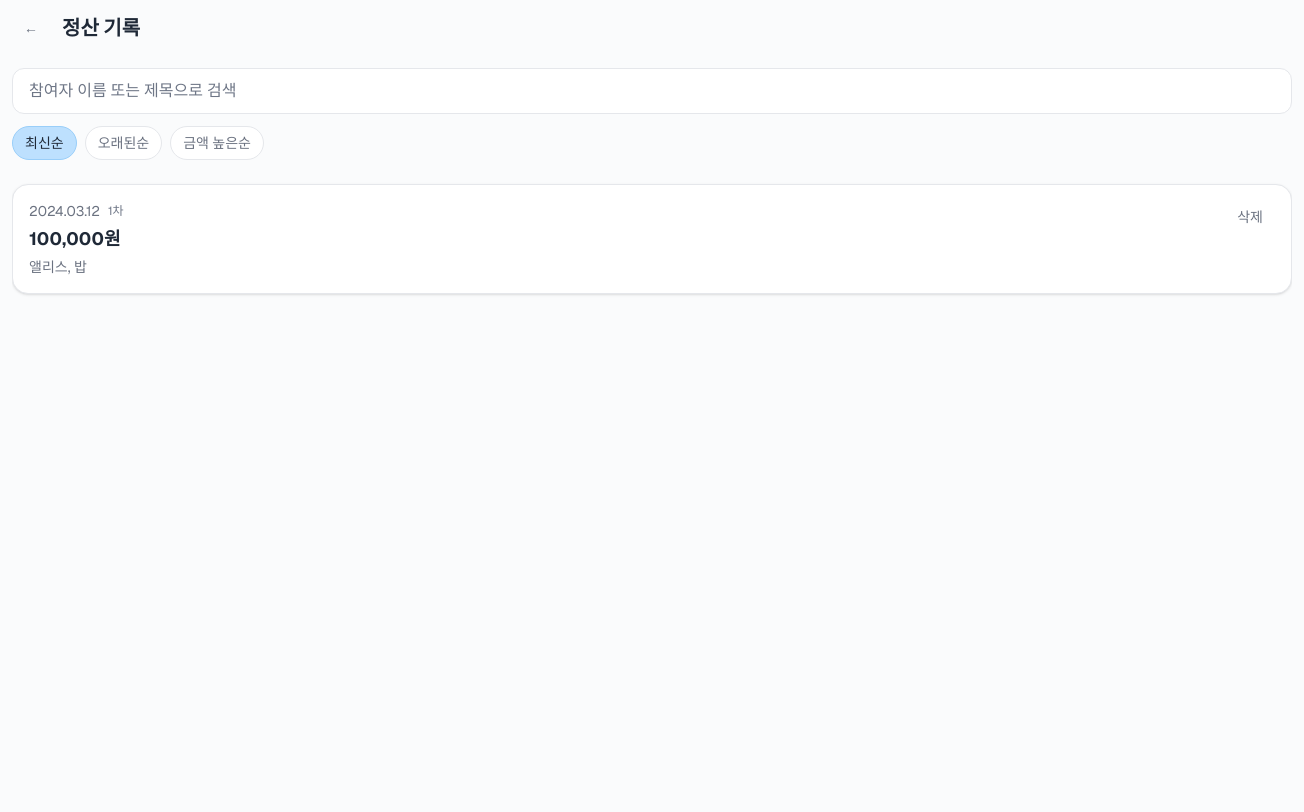
Test: HistoryPage - 확장/축소 › aria-expanded 속성이 올바르게 토글됨
Click the button with aria-label "정산 기록": [64, 211] box x1=12 y1=184 x2=1292 y2=294
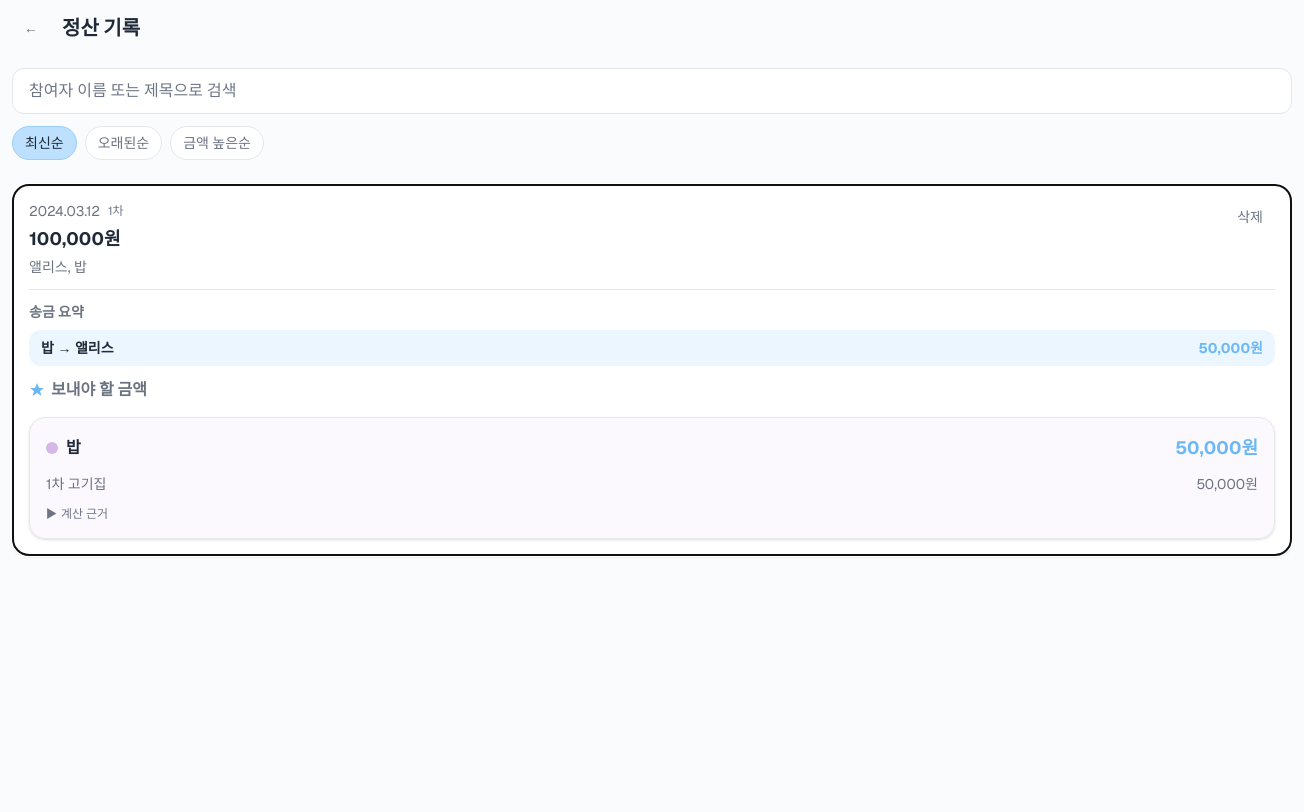
Expected: the button with aria-label "정산 기록" is expanded
Click the button with aria-label "정산 기록": [63, 199] box x1=12 y1=184 x2=1292 y2=556
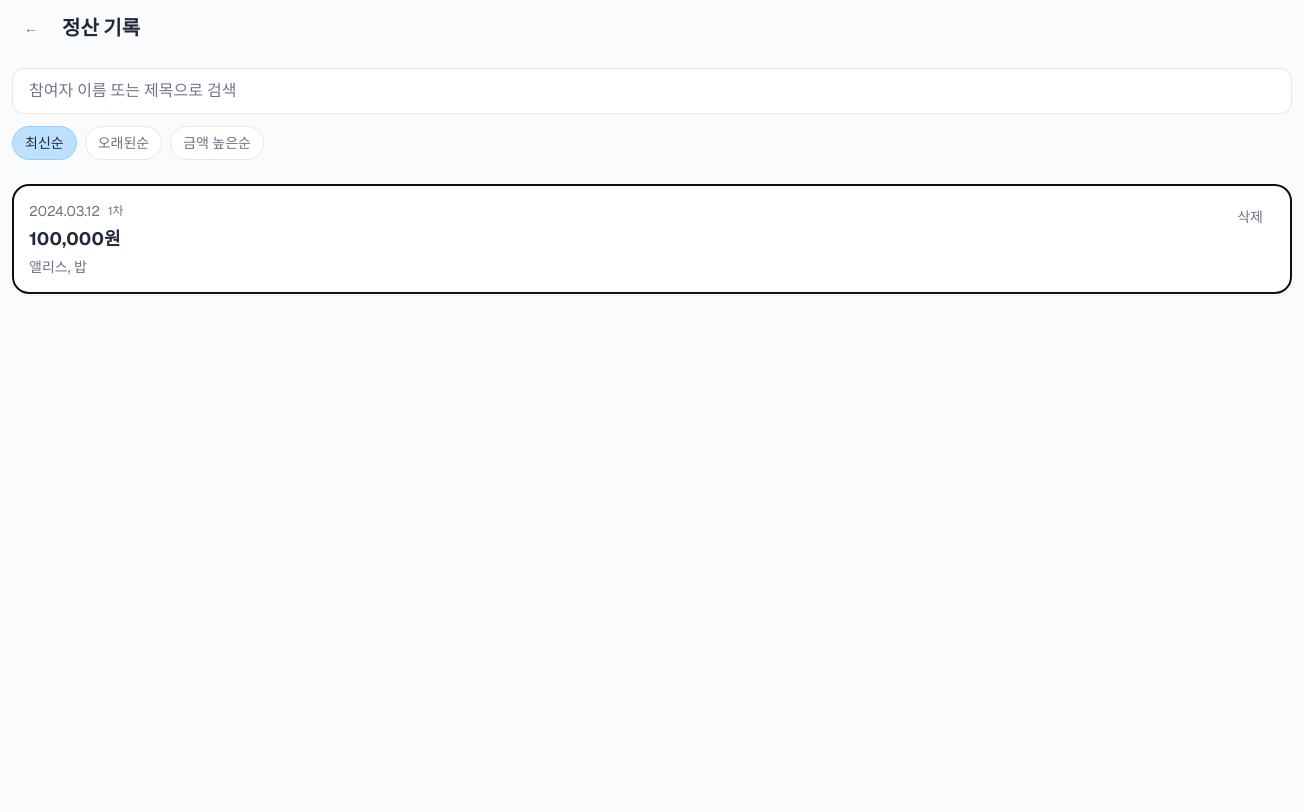
Expected: the button with aria-label "정산 기록" is collapsed, x1=12 y1=184 x2=1292 y2=294
